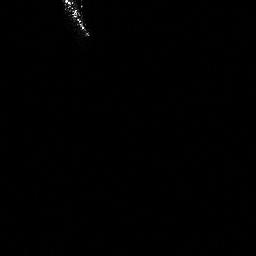ship: (59, 1, 93, 38)
